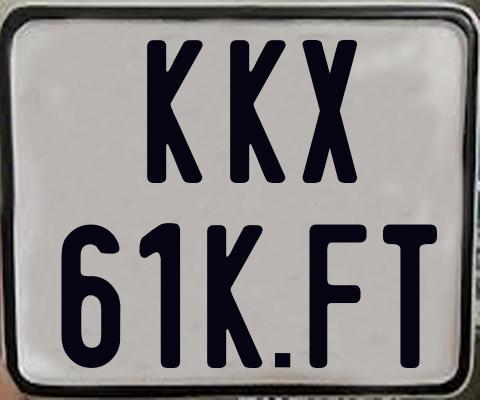1: (137, 221, 182, 366)
6: (61, 221, 124, 368)
F: (308, 224, 367, 374)
K: (229, 38, 289, 186), (146, 38, 207, 181), (204, 225, 263, 370)
T: (381, 221, 439, 371)
X: (301, 39, 362, 182)
